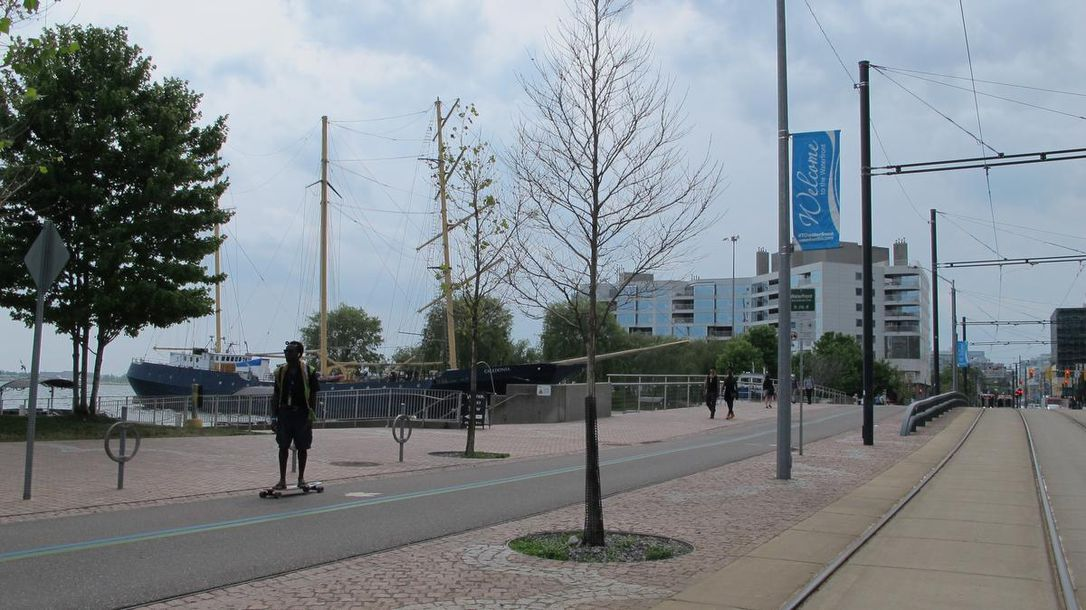tree: (496, 2, 726, 546), (1, 23, 235, 423)
